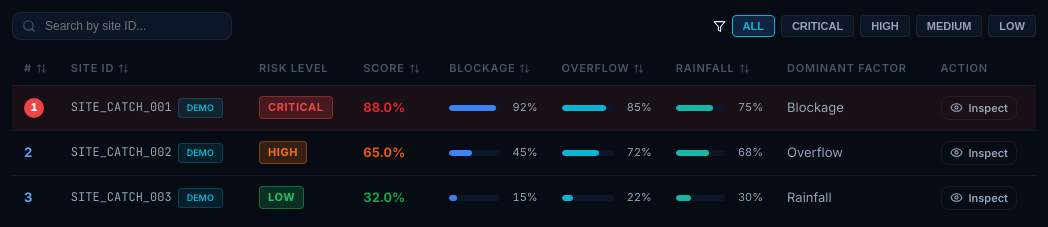
Scenario: Risk Table Component › renders site ranking and handles search filtering
This screenshot has width=1048, height=227.
Check: the text "SITE_CATCH_001" is shown, box x1=71 y1=99 x2=172 y2=115
Check: the text "SITE_CATCH_002" is shown, box x1=71 y1=144 x2=172 y2=160
Search filter
Type "002" into the field with placeholder "Search by site ID..." at point(122, 26), box x1=12 y1=12 x2=232 y2=40
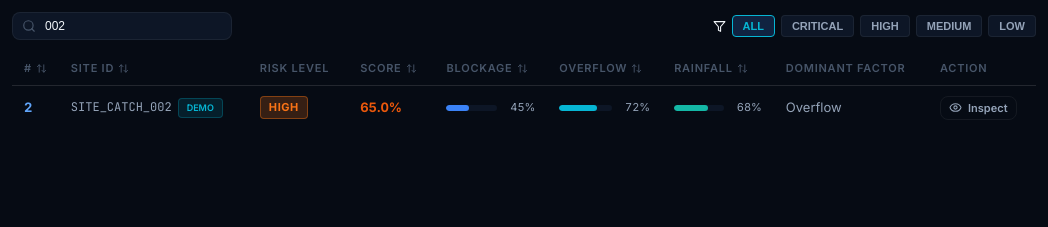
Check: the text "SITE_CATCH_002" is shown, box x1=71 y1=99 x2=172 y2=115
Check: the text "SITE_CATCH_001" is gone
